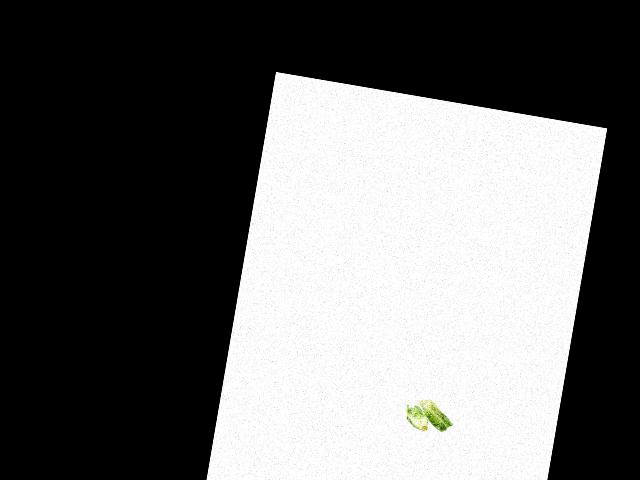lettuce: (400, 395, 454, 441)
